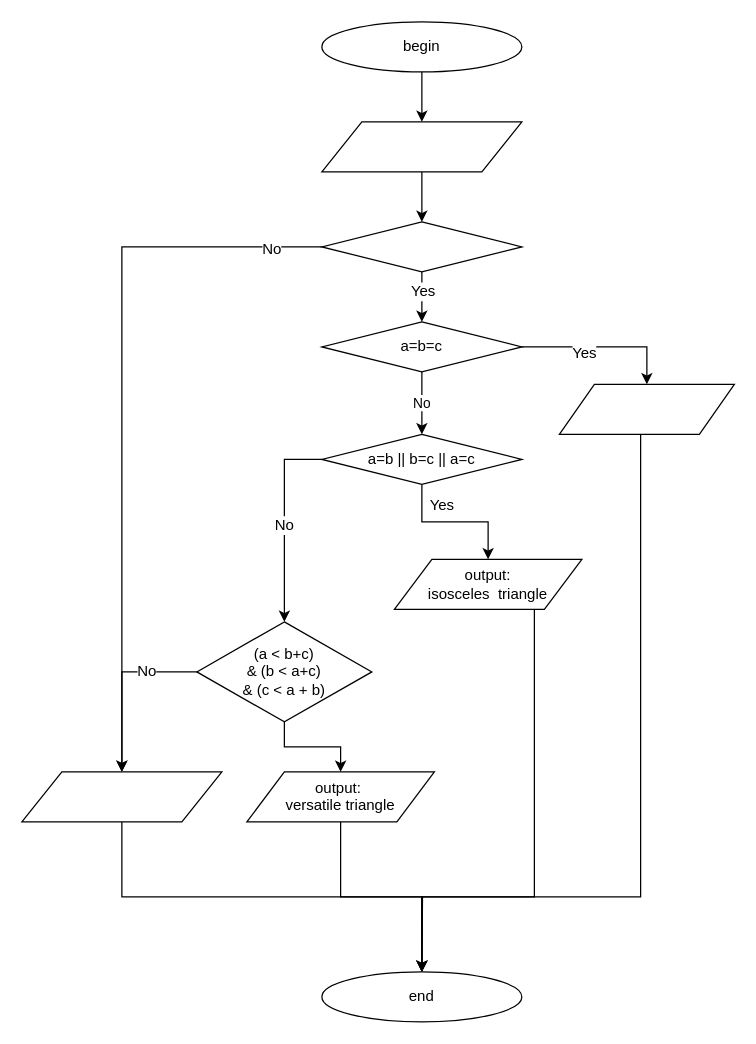
This 756x1044 diagram has some shape labels left out. Each missing label, with the box of its shape:
input: a,b,c: (321, 121, 522, 172)
min(a,b,c) >= 1: (321, 221, 522, 272)
output: equilateral triangle: (558, 383, 734, 434)
output: Triangle is not exist: (21, 771, 222, 822)
